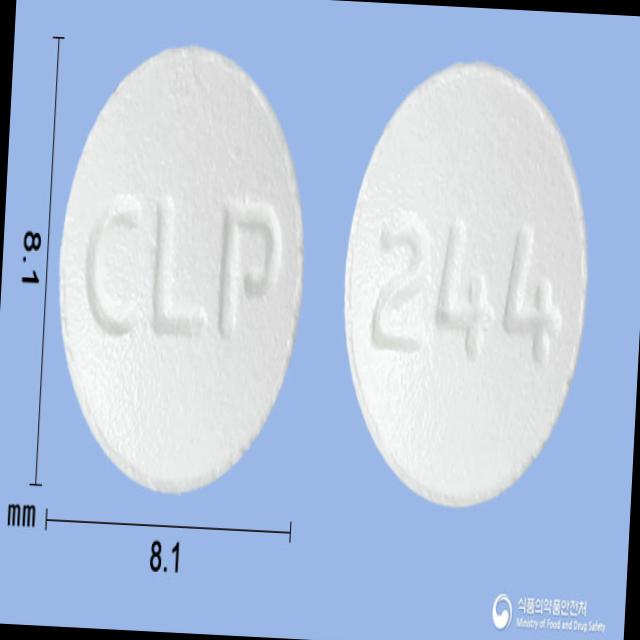Celltrion Levofloxacin: (44, 34, 320, 509), (331, 50, 604, 522)
